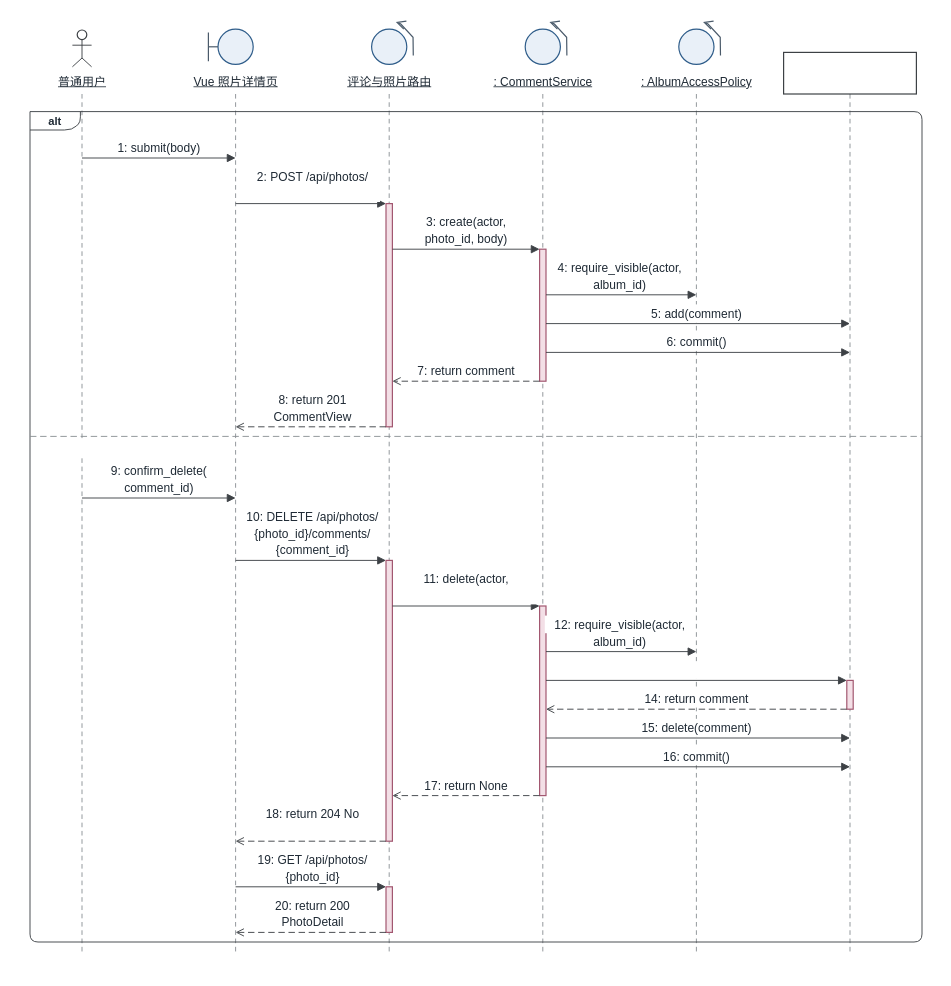
The diagram is 951 pixels wide and 986 high, and some of its shapes have lost their labels. The centre of each missing label's shape, as x and y in pixels:
"13: scalar(comment_by_photo_and_id)" belongs at [696,669].
": Session SQLAlchemy" belongs at [850,72].
"[发表评论]" belongs at [119,123].
"[确认删除本人评论]" belongs at [93,448].
"Content" belongs at [312,830].
"photo_id, comment_id)" belongs at [465,595].
"{photo_id}/comments" belongs at [312,193].
